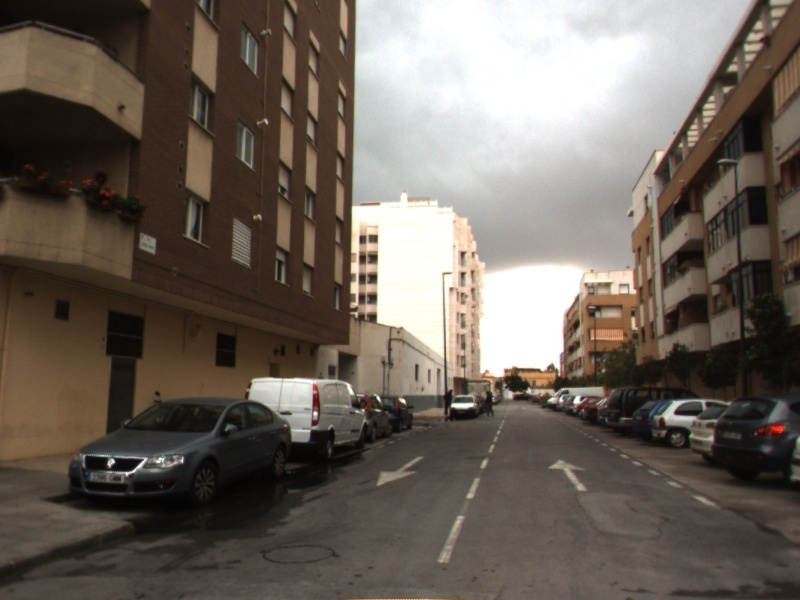STRAIGHT: (546, 457, 591, 493)
